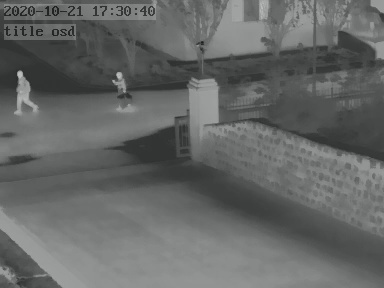person: (15, 69, 37, 116), (112, 70, 131, 110)
